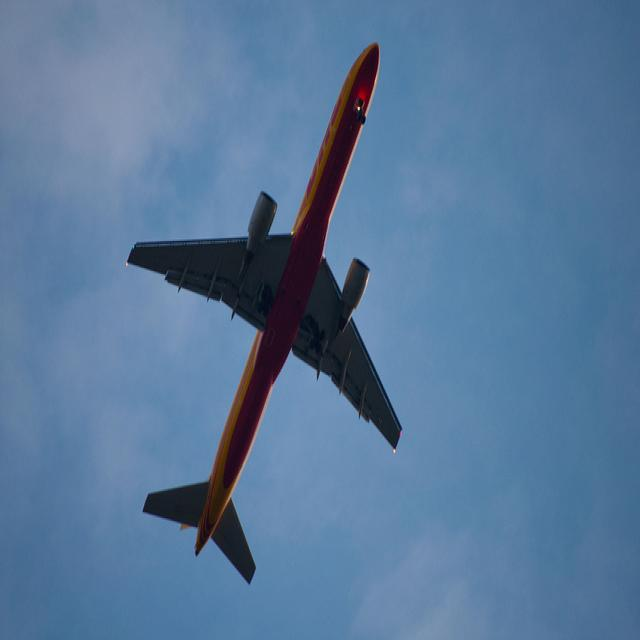airplane: (124, 41, 404, 586)
